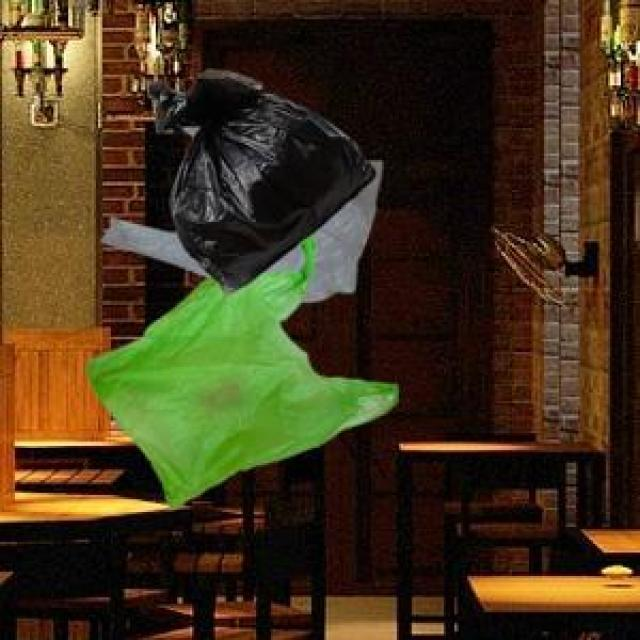miscellaneous trash: (143, 64, 371, 290)
